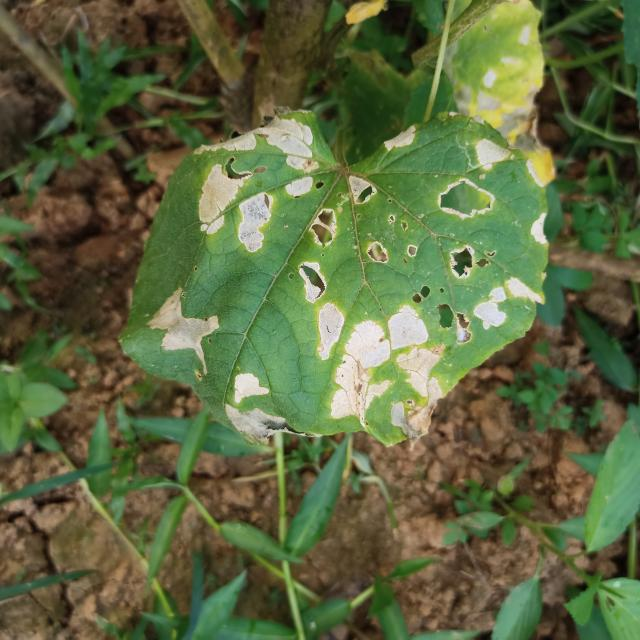disease_cucumber: (157, 124, 537, 416)
